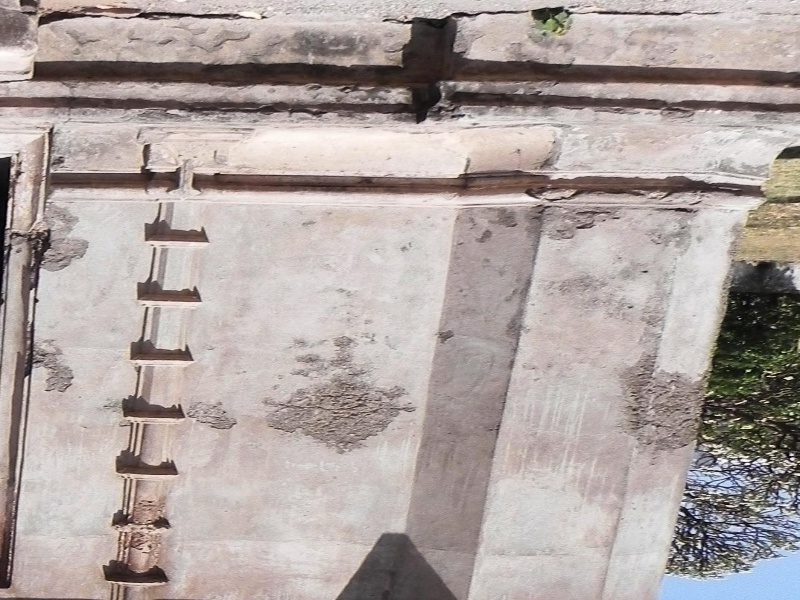Spalling: (265, 366, 410, 458), (613, 335, 709, 454), (525, 167, 698, 212), (31, 204, 92, 275), (29, 337, 77, 401)
